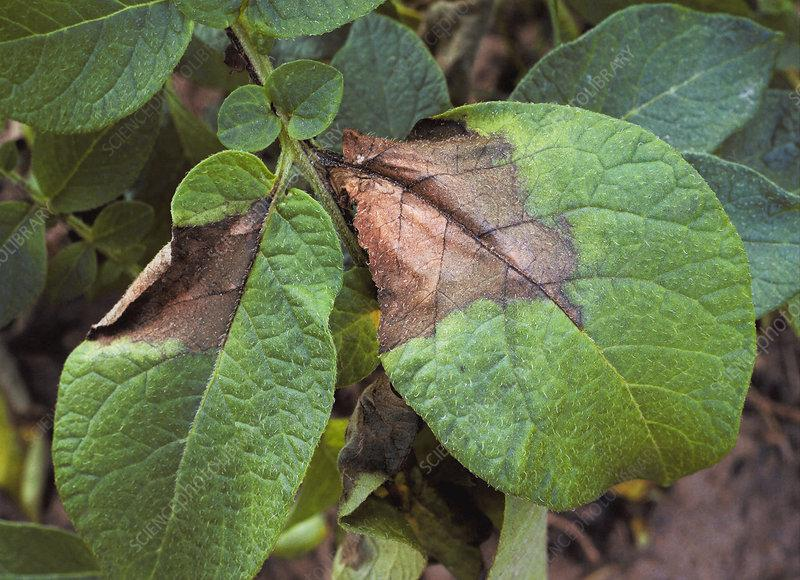Potato leaf late blight: (350, 82, 751, 519), (55, 148, 354, 580)
